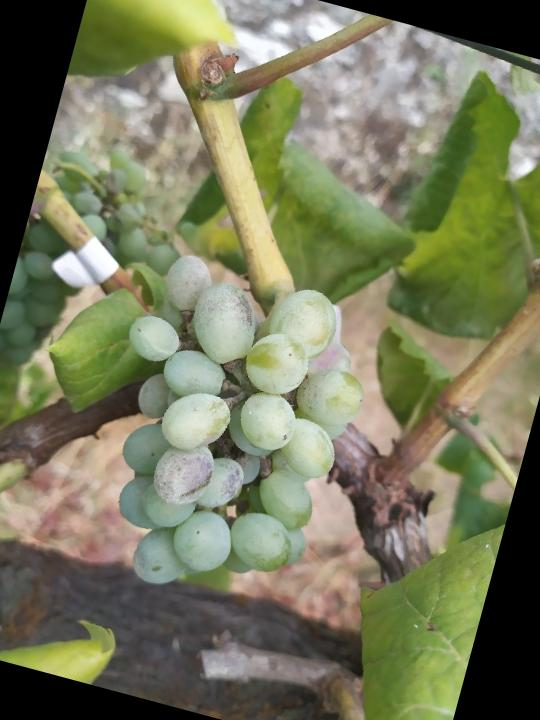grape: (65, 240, 391, 627)
